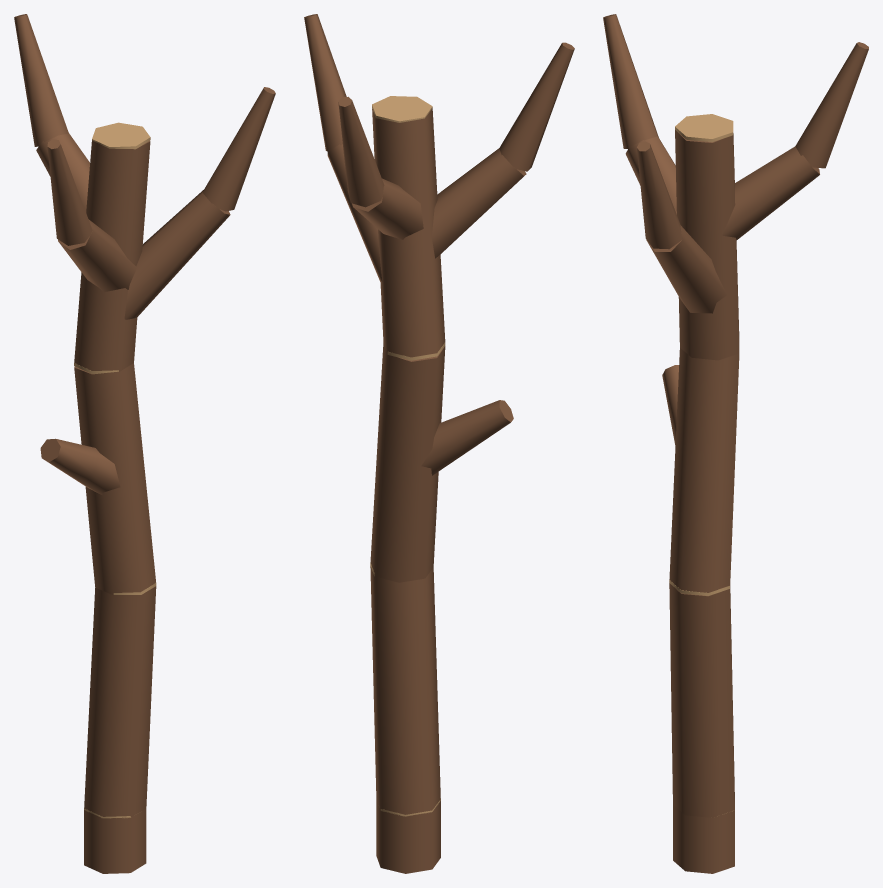
Rendered from dead_tree.glb.
The picture shows the model from 3 angles, left to right: view 1: azimuth 30°, elevation 25°; view 2: azimuth 150°, elevation 25°; view 3: azimuth 270°, elevation 25°; orthographic projection. The views are drawn at different scales.
Visible parts, largest first — view 1: Trunk, Trunk2, Trunk3, Fork, Stump, Twig, Twig3, Fork2, Twig2, BrokenBranch, Fork3, CutFace3; view 2: Trunk, Trunk2, Trunk3, Fork2, Stump, Twig2, BrokenBranch, Twig3, Twig, Fork3, Fork, CutFace3; view 3: Trunk2, Trunk, Trunk3, Fork3, Stump, Twig2, Twig3, Fork, Twig, CutFace3, Fork2, BrokenBranch.
Part boxes in pixels (bbox=[...]): Trunk: bbox=[84, 586, 156, 817]; Trunk2: bbox=[74, 363, 155, 595]; Trunk3: bbox=[74, 140, 150, 371]; Fork: bbox=[124, 190, 230, 319]; Stump: bbox=[84, 809, 146, 873]; Twig: bbox=[203, 87, 275, 211]; Twig3: bbox=[14, 14, 68, 146]; Fork2: bbox=[58, 219, 136, 292]; Twig2: bbox=[47, 139, 92, 245]; BrokenBranch: bbox=[40, 438, 120, 494]; Fork3: bbox=[36, 133, 89, 212]; CutFace3: bbox=[92, 122, 150, 149]; Trunk: bbox=[370, 566, 440, 814]; Trunk2: bbox=[370, 343, 445, 582]; Trunk3: bbox=[372, 108, 445, 357]; Fork2: bbox=[432, 148, 526, 258]; Stump: bbox=[376, 799, 440, 873]; Twig2: bbox=[499, 42, 574, 171]; BrokenBranch: bbox=[421, 400, 513, 475]; Twig3: bbox=[338, 96, 384, 207]; Twig: bbox=[304, 14, 346, 151]; Fork3: bbox=[352, 178, 423, 239]; Fork: bbox=[327, 144, 382, 281]; CutFace3: bbox=[372, 96, 432, 122]; Trunk2: bbox=[669, 348, 739, 592]; Trunk: bbox=[669, 583, 734, 817]; Trunk3: bbox=[675, 130, 739, 360]; Fork3: bbox=[722, 146, 819, 240]; Stump: bbox=[673, 804, 734, 873]; Twig2: bbox=[603, 14, 658, 148]; Twig3: bbox=[795, 42, 868, 168]; Fork: bbox=[646, 225, 726, 313]; Twig: bbox=[636, 141, 681, 249]; CutFace3: bbox=[675, 114, 733, 142]; Fork2: bbox=[625, 136, 676, 214]; BrokenBranch: bbox=[662, 365, 678, 445].
Bounding box in the file's own units: 1.01 × 3.15 × 0.9384.
